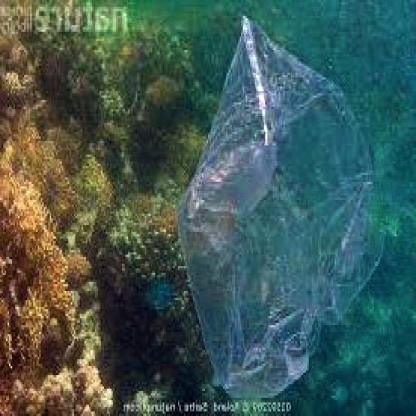pbag: (172, 9, 390, 405)
